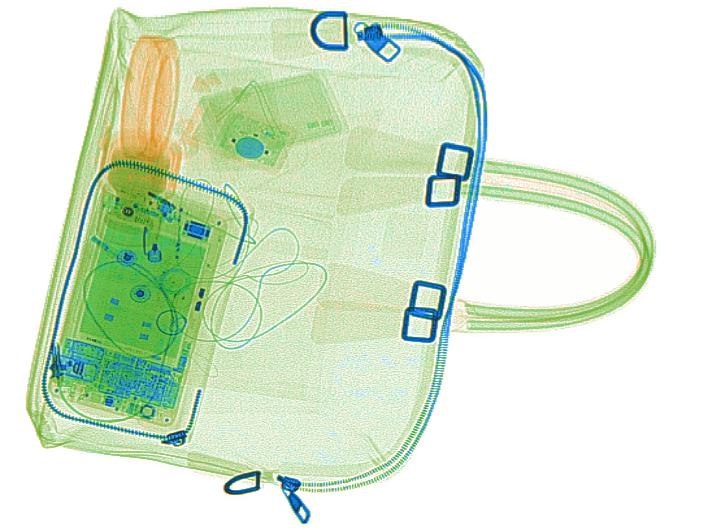seal: (95, 142, 174, 237)
